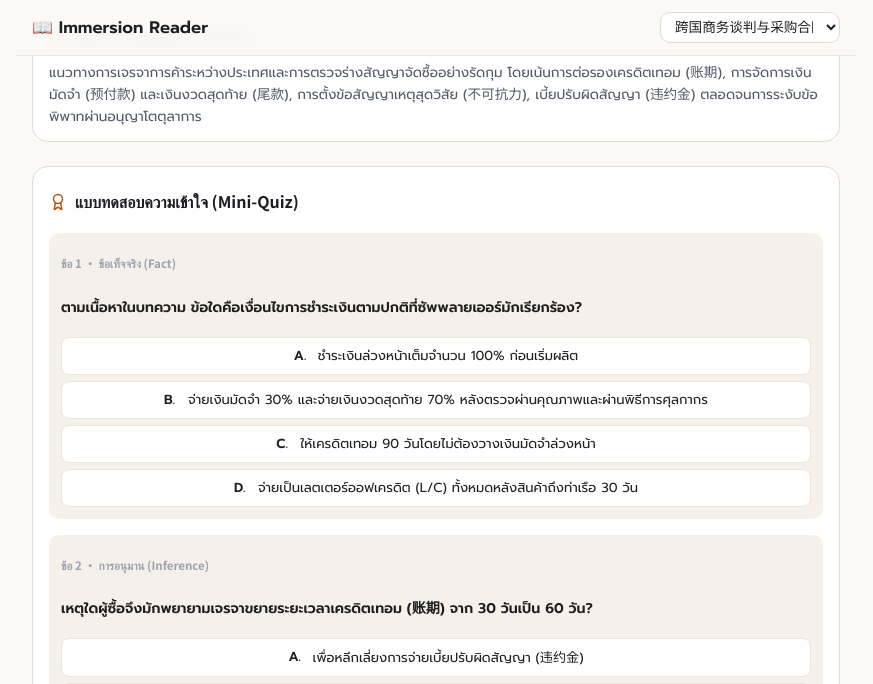
Test: ImmersionArticleReader Component › renders comprehension mini-quiz and handles answer selection with feedback
What coordinates should you click on to do the following:
click the 2nd button
I would click on:
 (436, 400)
Its box is [61,381,811,419].
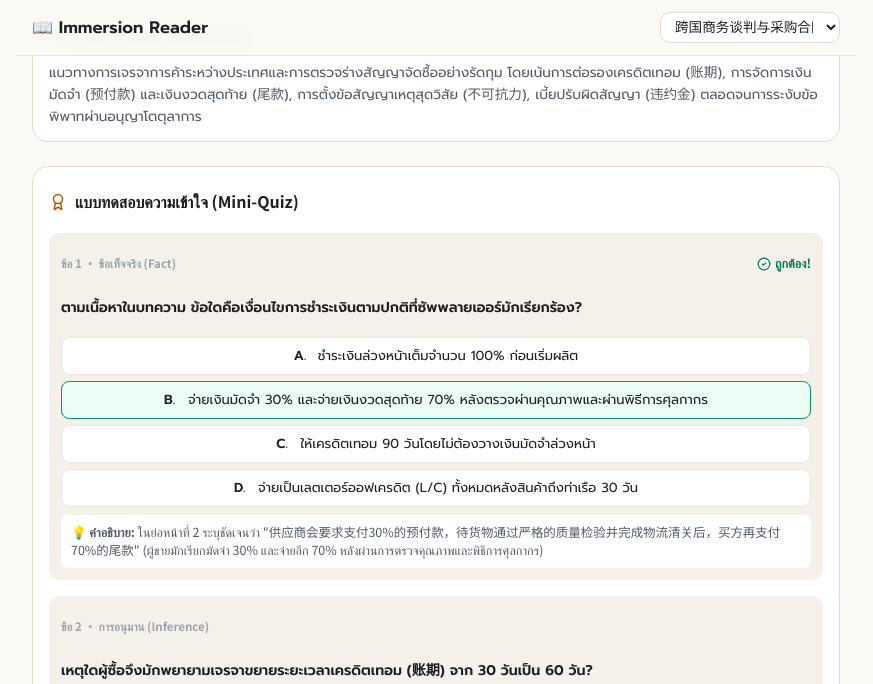
Expected: the text "ถูกต้อง!" is shown, [757,254,811,272]
Expected: the text "💡 คำอธิบาย:" is shown, [61,515,811,568]
